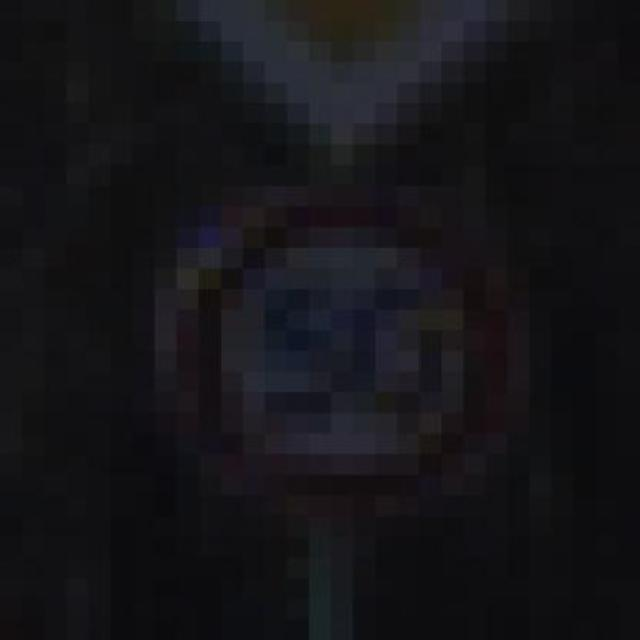50 mph speed limit: (88, 186, 574, 537)
